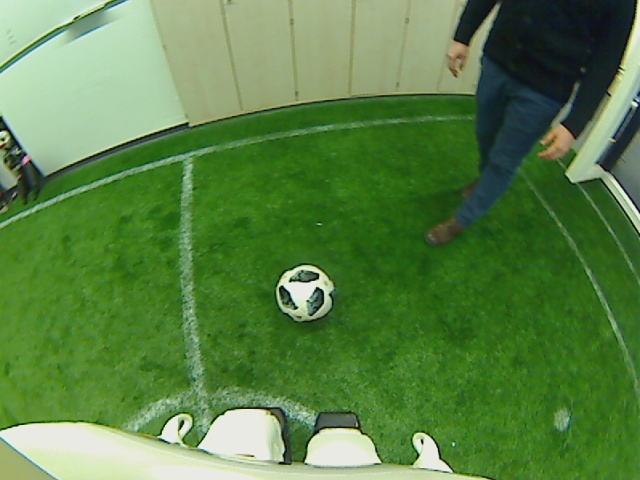ball: (275, 262, 334, 323)
